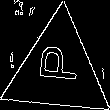P_W: (33, 49, 82, 91)
